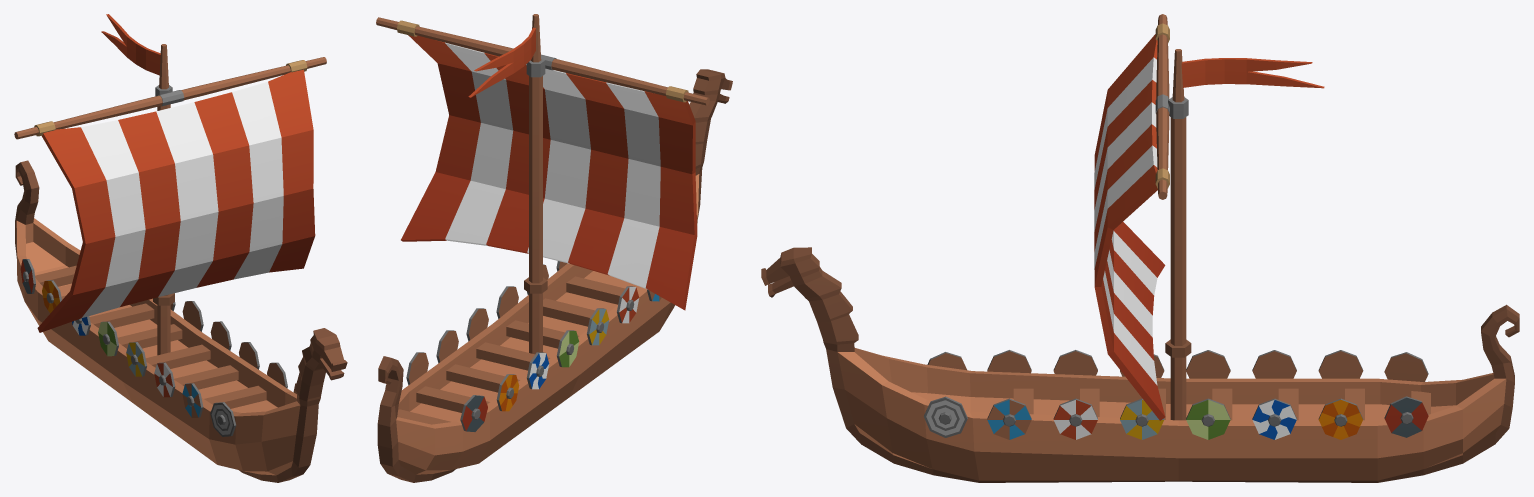
The model's file is viking-ship-1.glb.
The picture shows the model from 3 angles, left to right: view 1: azimuth 30°, elevation 25°; view 2: azimuth 150°, elevation 25°; view 3: azimuth 270°, elevation 25°; orthographic projection. The views are drawn at different scales.
Visible parts, largest first — view 1: viking ship 1; view 2: viking ship 1; view 3: viking ship 1.
Part boxes in pixels (x1,y1,x2,y2): viking ship 1: (14, 14, 347, 482); viking ship 1: (376, 14, 732, 482); viking ship 1: (761, 14, 1519, 482).
Bounding box in the file's own units: 10.37 × 11.71 × 18.72.
1 material, 1 textured.
